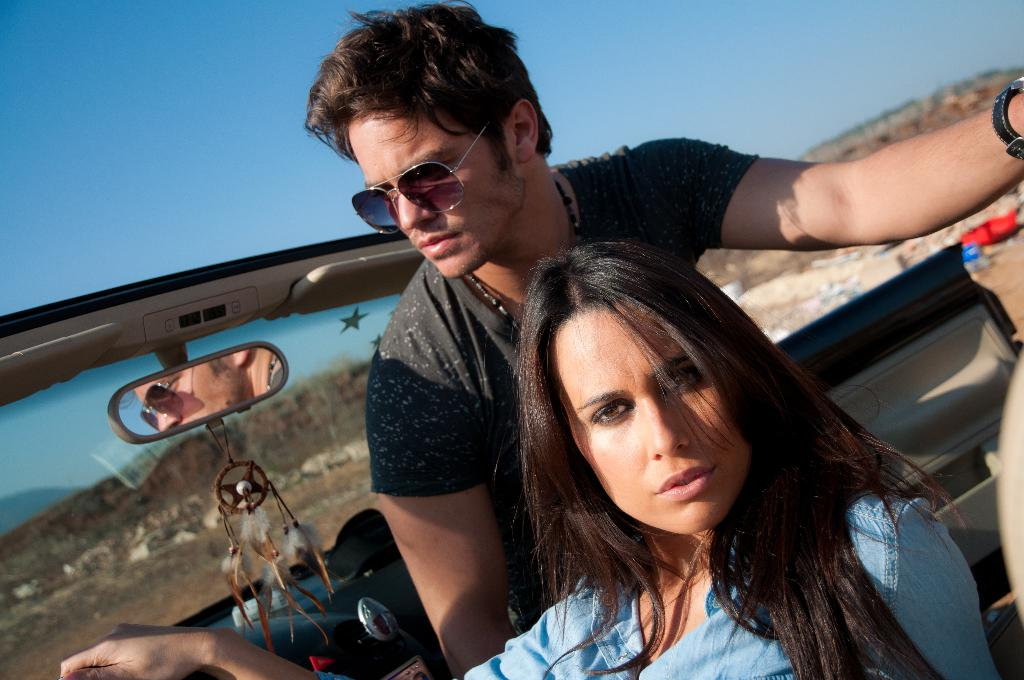Car: (0, 228, 1023, 679)
